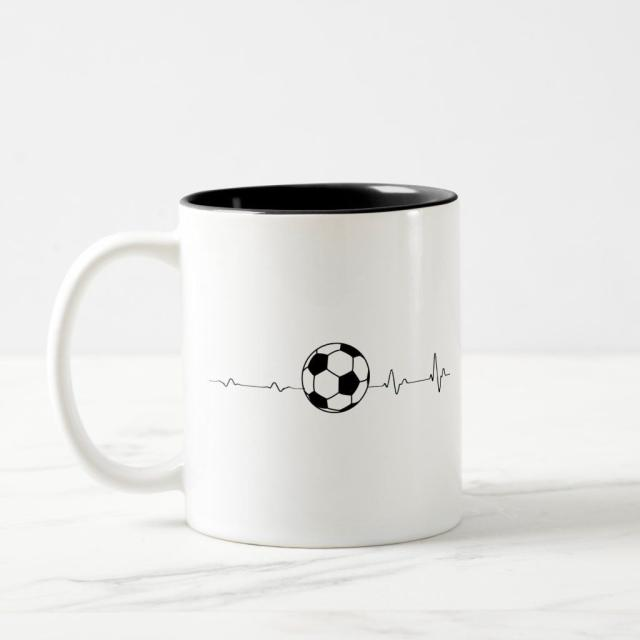glass cup: (46, 182, 465, 548)
